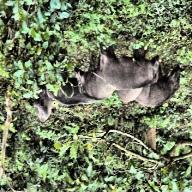boar: (88, 45, 165, 93), (132, 65, 192, 118), (45, 85, 97, 115), (78, 79, 113, 102), (117, 83, 141, 110), (34, 95, 51, 122)
